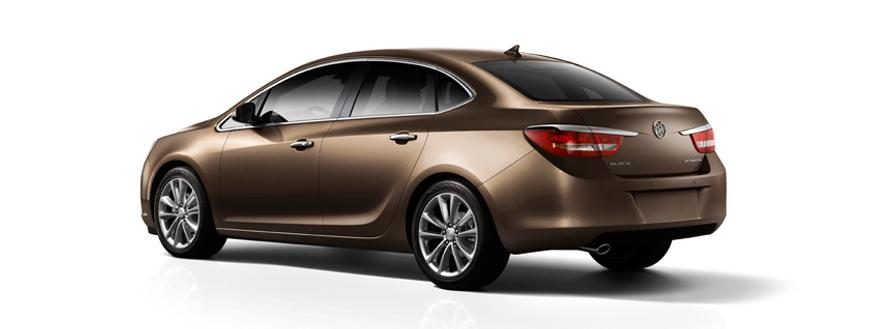Car: (109, 40, 758, 319)
